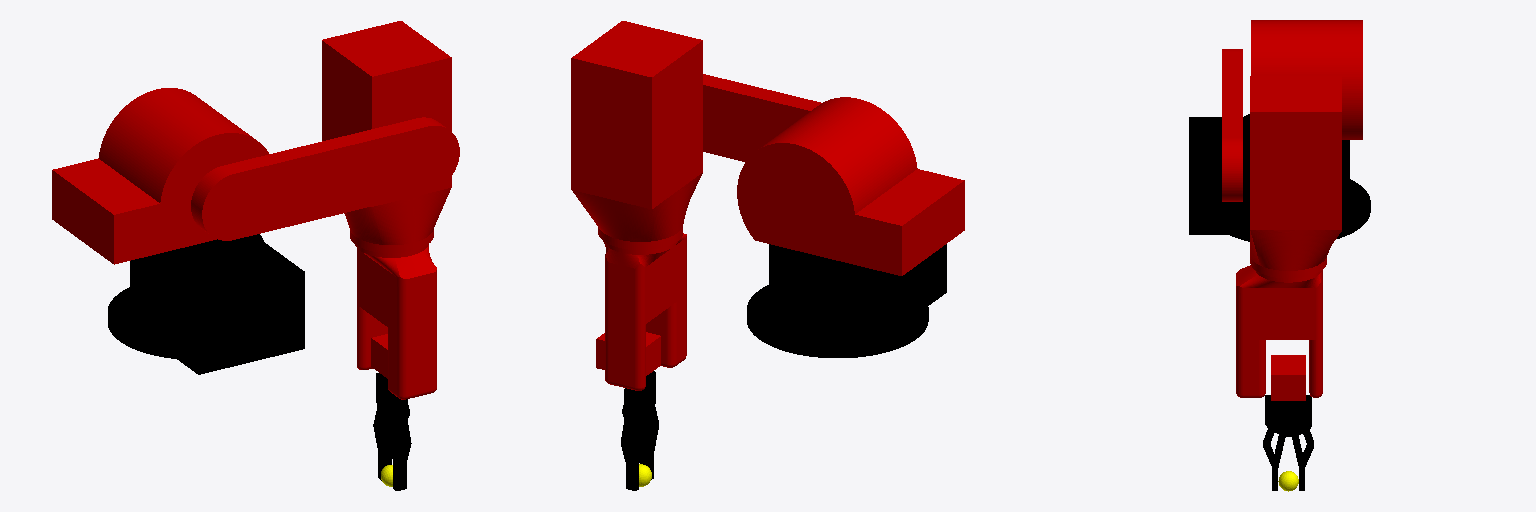
robot.urdf — fred:
<?xml version="1.0" encoding="utf-8"?>

<robot name="fred" xmlns:xacro="http://www.ros.org/wiki/xacro">
  <!-- right is either 1 (for right arm) or -1 (for left arm) -->
  <material name="black">
    <color rgba="0 0 0 1"/>
  </material>
  <material name="white">
    <color rgba="1 1 1 1"/>
  </material>
  <material name="red">
    <color rgba="0.8 0 0 1"/>
  </material>
  <material name="yellow">
    <color rgba="1 1 0 1"/>
  </material>

  <link name="base_link">
    <inertial>
      <origin rpy="0 0 0" xyz="0 0 0"/>
      <mass value=".0"/>
      <inertia ixx="0" ixy="0" ixz="0" iyy="0" iyz="0" izz="0"/>
    </inertial>
    <visual>
      <origin rpy="0 0 0" xyz="0 0 0"/>
      <geometry>
        <mesh filename="meshes/base.stl" scale="0.001 0.001 0.001"/>
      </geometry>
      <material name="black"/>
    </visual>
  </link>
  <link name="base_plate">
    <inertial>
      <mass value="0.05"/>
      <origin rpy="0 0 0" xyz="0 0 0.1395"/>
      <inertia ixx="1-05" ixy="0" ixz="0" iyy="1e-05" iyz="0" izz="1e-05"/>
    </inertial>
    <visual>
      <origin rpy="0 0 0" xyz="0 0 0"/>
      <geometry>
        <mesh filename="meshes/joint2.stl" scale="0.001 0.001 0.001"/>
      </geometry>
      <material name="red"/>
    </visual>
  </link>
  <joint name="base_to_base_plate" type="revolute">
    <limit effort="1000.0" lower="0.0" upper="3.14159265359" velocity="10"/>
    <parent link="base_link"/>
    <child link="base_plate"/>
    <origin rpy="0 0 -1.57079632679" xyz="0 0 0.1395"/>
    <axis xyz="0 0 1"/>
  </joint>

  <link name="arm_lower">
    <inertial>
      <mass value="0.2"/>
      <origin rpy="0 0 0" xyz="0 0.09 0.0"/>
      <inertia ixx="0.0006" ixy="0" ixz="0" iyy="0.00012" iyz="0" izz="0.0006"/>
    </inertial>
    <visual>
      <origin rpy="0 0 0" xyz="0 0 0"/>
      <geometry>
        <mesh filename="meshes/arm.stl" scale="0.001 0.001 0.001"/>
      </geometry>
      <material name="red"/>
    </visual>
    <collision>
      <origin rpy="0 0 0" xyz="0 0 0"/>
      <geometry>
        <mesh filename="meshes/arm.stl" scale="0.001 0.001 0.001"/>
      </geometry>
    </collision>
  </link>
  <joint name="base_plate_to_arm_lower" type="revolute">
    <limit effort="1000.0" lower="-3.14159265359" upper="3.14159265359" velocity="10"/>
    <parent link="base_plate"/>
    <child link="arm_lower"/>
    <origin rpy="-1.57079632679 0 0" xyz="0.04 0 0"/>
    <axis xyz="1 0 0"/>
  </joint>

  <link name="arm_upper">
    <inertial>
      <mass value="0.3"/>
      <origin rpy="0 0 0" xyz="0.0 0.03 -0.01"/>
      <inertia ixx="0.00045" ixy="0" ixz="0" iyy="0.00013" iyz="0" izz="0.0004"/>
    </inertial>
    <visual>
      <origin rpy="0 0 0" xyz="0 0 0"/>
      <geometry>
        <mesh filename="meshes/joint3.stl" scale="0.001 0.001 0.001"/>
      </geometry>
      <material name="red"/>
    </visual>
    <collision>
      <origin rpy="0 0 0" xyz="0 0 0"/>
      <geometry>
        <mesh filename="meshes/joint3.stl" scale="0.001 0.001 0.001"/>
      </geometry>
    </collision>
  </link>
  <joint name="arm_lower_to_arm_upper" type="revolute">
    <limit effort="1000.0" lower="-1.57079632679" upper="3.14159265359" velocity="10"/>
    <parent link="arm_lower"/>
    <child link="arm_upper"/>
    <origin rpy="0 0 0" xyz="-0.04 0 0.2"/>
    <axis xyz="1 0 0"/>
  </joint>

  <link name="wrist">
    <inertial>
      <mass value="0.1"/>
      <origin rpy="0 0 0" xyz="0 0 0.0"/>
      <inertia ixx="0.000133333333333" ixy="0" ixz="0" iyy="5.41666666667e-05" iyz="0" izz="0.000160833333333"/>
    </inertial>
    <visual>
      <origin rpy="0 0 0" xyz="0 0 0"/>
      <geometry>
        <mesh filename="meshes/joint4.stl" scale="0.001 0.001 0.001"/>
      </geometry>
      <material name="red"/>
    </visual>
    <collision>
      <origin rpy="0 0 0" xyz="0 0 0"/>
      <geometry>
        <mesh filename="meshes/joint4.stl" scale="0.001 0.001 0.001"/>
      </geometry>
    </collision>
  </link>
  <joint name="arm_upper_to_wrist" type="continuous">
    <parent link="arm_upper"/>
    <child link="wrist"/>
    <origin xyz="0 0.101 0"/>
    <axis xyz="0 1 0"/>
  </joint>

  <link name="wrist_servo">
    <inertial>
      <mass value="0.04"/>
      <origin rpy="0 0 0" xyz="0.0 0.0 0.0"/>
      <inertia ixx="0.00030675" ixy="0" ixz="0" iyy="9.75e-06" iyz="0" izz="0.000303"/>
    </inertial>
    <visual>
      <origin rpy="0 0 1.57079632679" xyz="0 0 0"/>
      <geometry>
        <mesh filename="meshes/gripper_servo.stl" scale="0.001 0.001 0.001"/>
      </geometry>
      <material name="red"/>
    </visual>
    <collision>
      <origin rpy="0 0 0" xyz="0 0 0"/>
      <geometry>
        <mesh filename="meshes/gripper_servo.stl" scale="0.001 0.001 0.001"/>
      </geometry>
    </collision>
  </link>
  <joint name="wrist_to_wrist_servo" type="continuous">
    <parent link="wrist"/>
    <child link="wrist_servo"/>
    <origin xyz="0 0.119 0"/>
    <axis xyz="1 0 0"/>
  </joint>

  <link name="gripper">
    <inertial>
      <mass value="0.01"/>
      <origin rpy="0 0 0" xyz="0 0 0"/>
      <inertia ixx="5.4375e-06" ixy="0" ixz="0" iyy="3.75e-06" iyz="0" izz="7.6875e-06"/>
    </inertial>
    <visual>
      <origin rpy="0 0 0" xyz="0 0 0"/>
      <geometry>
        <mesh filename="meshes/gripper.stl" scale="0.001 0.001 0.001"/>
      </geometry>
      <material name="black"/>
    </visual>
    <collision>
      <origin rpy="0 0 0" xyz="0 0 0"/>
      <geometry>
        <mesh filename="meshes/gripper.stl" scale="0.001 0.001 0.001"/>
      </geometry>
    </collision>
  </link>
  <joint name="wrist_servo_to_gripper" type="continuous">
    <parent link="wrist_servo"/>
    <child link="gripper"/>
    <origin xyz="0 0.017 0"/>
    <axis xyz="0 1 0"/>
  </joint>

  <link name="sphere1">
    <inertial>
      <origin rpy="0 0 0" xyz="0 0 0"/>
      <mass value=".0"/>
      <inertia ixx="0" ixy="0" ixz="0" iyy="0" iyz="0" izz="0"/>
    </inertial>
    <visual>
      <origin rpy="0 0 0" xyz="0 0 0"/>
      <geometry>
        <sphere radius="0.01"/>
      </geometry>
      <material name="yellow"/>
    </visual>
    <collision>
      <origin rpy="0 0 0" xyz="0 0 0"/>
      <geometry>
        <sphere radius="0.01"/>
      </geometry>
    </collision>
  </link>
  <joint name="wrist_to_sphere1" type="continuous">
    <parent link="wrist"/>
    <child link="sphere1"/>
    <origin xyz="0 0.05 0"/>
    <axis xyz="0 1 0"/>
  </joint>

  <link name="sphere2">
    <inertial>
      <origin rpy="0 0 0" xyz="0 0 0"/>
      <mass value=".0"/>
      <inertia ixx="0" ixy="0" ixz="0" iyy="0" iyz="0" izz="0"/>
    </inertial>
    <visual>
      <origin rpy="0 0 0" xyz="0 0 0"/>
      <geometry>
        <sphere radius="0.01"/>
      </geometry>
      <material name="yellow"/>
    </visual>
    <collision>
      <origin rpy="0 0 0" xyz="0 0 0"/>
      <geometry>
        <sphere radius="0.01"/>
      </geometry>
    </collision>
  </link>
  <joint name="wrist_servo_to_sphere2" type="continuous">
    <parent link="wrist_servo"/>
    <child link="sphere2"/>
    <origin xyz="0 0 0"/>
    <axis xyz="0 1 0"/>
  </joint>

  <link name="sphere3">
    <inertial>
      <origin rpy="0 0 0" xyz="0 0 0"/>
      <mass value=".0"/>
      <inertia ixx="0" ixy="0" ixz="0" iyy="0" iyz="0" izz="0"/>
    </inertial>
    <visual>
      <origin rpy="0 0 0" xyz="0 0 0"/>
      <geometry>
        <sphere radius="0.01"/>
      </geometry>
      <material name="yellow"/>
    </visual>
    <collision>
      <origin rpy="0 0 0" xyz="0 0 0"/>
      <geometry>
        <sphere radius="0.005"/>
      </geometry>
    </collision>
  </link>
  <joint name="wrist_sphere3" type="continuous">
    <parent link="gripper"/>
    <child link="sphere3"/>
    <origin xyz="0 0.1 0"/>
    <axis xyz="0 1 0"/>
  </joint>
</robot>

--- What the picture shows (computed from the rendered views, not written in the file) ---
3 views of the same robot in one strip: view 1: azimuth 30°, elevation 25°; view 2: azimuth 150°, elevation 25°; view 3: azimuth 270°, elevation 25° (orthographic).
Model fred with 10 links and 9 joints (3 revolute, 6 continuous), rooted at base_link, posed all joints at 0.
Links seen in each view (by area): view 1: base_plate, base_link, arm_lower, arm_upper, wrist, gripper, wrist_servo; view 2: base_plate, arm_upper, base_link, wrist, arm_lower, gripper, wrist_servo; view 3: arm_upper, wrist, base_plate, base_link, arm_lower, gripper, wrist_servo.
Boxes of the visible links, <box> form: base_plate: <box>52,88,268,264</box>; base_link: <box>108,234,304,374</box>; arm_lower: <box>191,117,459,240</box>; arm_upper: <box>322,21,451,252</box>; wrist: <box>355,244,436,399</box>; gripper: <box>373,373,411,490</box>; wrist_servo: <box>371,334,387,378</box>; base_plate: <box>737,97,964,275</box>; arm_upper: <box>571,21,702,249</box>; base_link: <box>747,244,946,357</box>; wrist: <box>603,233,686,390</box>; arm_lower: <box>703,74,821,161</box>; gripper: <box>621,371,658,490</box>; wrist_servo: <box>596,332,660,375</box>; arm_upper: <box>1250,76,1341,277</box>; wrist: <box>1236,265,1322,397</box>; base_plate: <box>1251,20,1362,139</box>; base_link: <box>1189,114,1370,241</box>; arm_lower: <box>1222,49,1242,201</box>; gripper: <box>1263,395,1313,490</box>; wrist_servo: <box>1271,355,1305,400</box>.
Size in the robot's own frame: 0.3473 by 0.1769 by 0.427 metres.
7 mesh visuals loaded from 7 distinct referenced files (7 binary STL).
